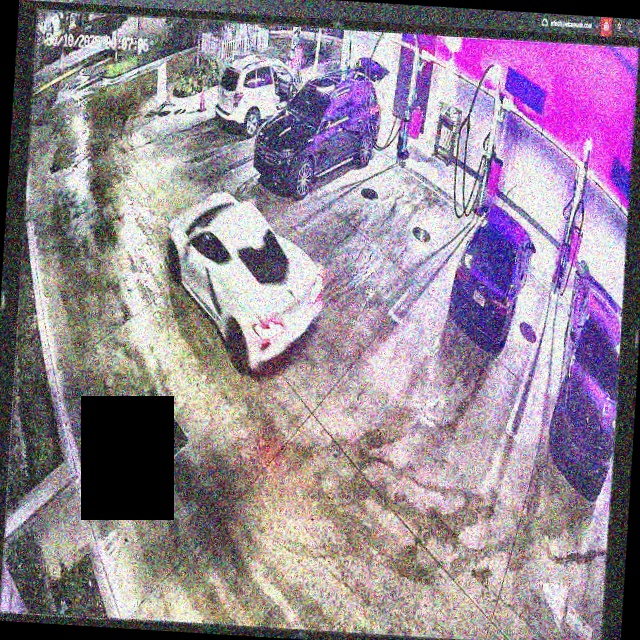Car: (158, 188, 328, 377), (250, 65, 385, 201), (445, 201, 538, 351)
